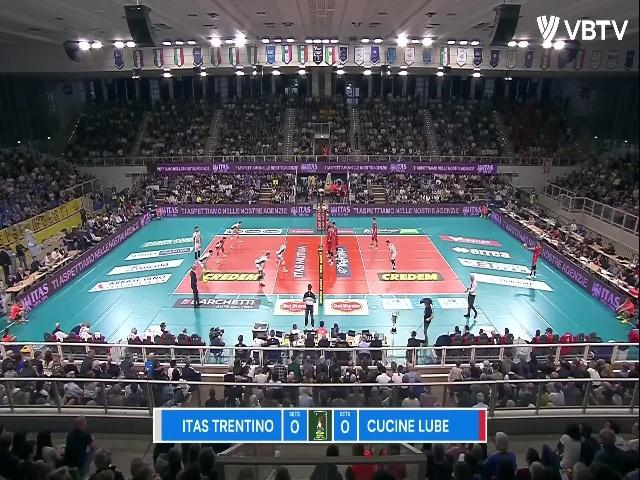volleyball court: (173, 230, 467, 295)
